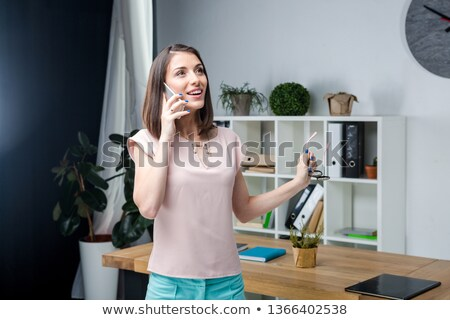phone: (155, 75, 188, 119)
talk: (155, 59, 210, 128)
